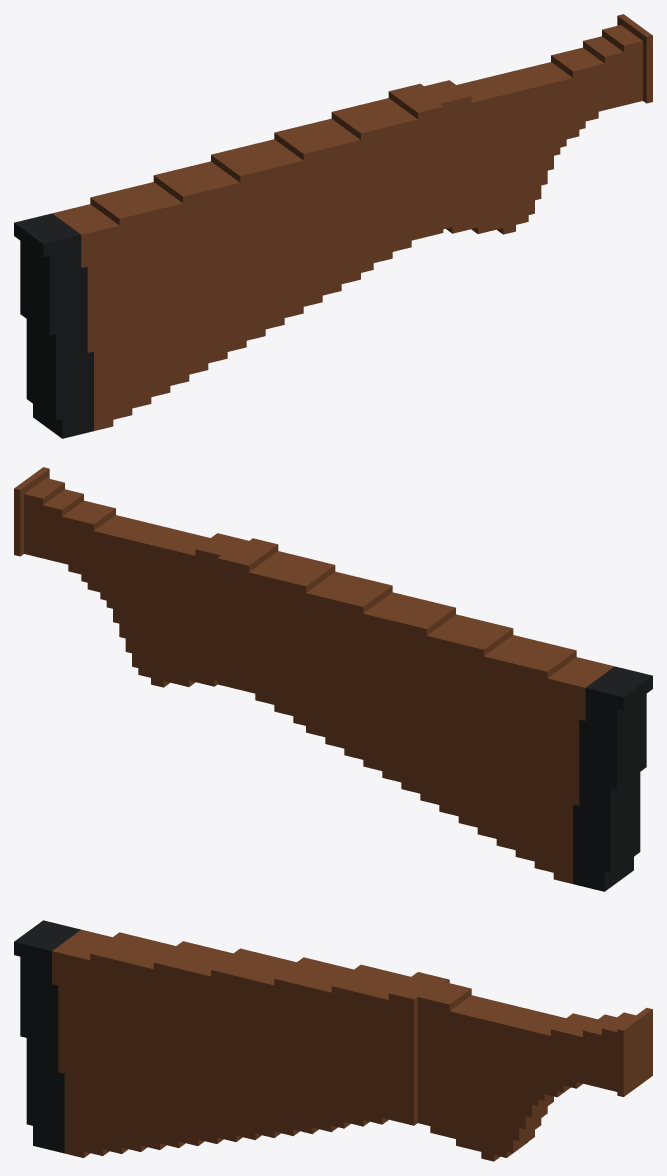
The model's file is stock_tapered_medium.glb.
The picture shows the model from 3 angles, top to bottom: view 1: azimuth 30°, elevation 25°; view 2: azimuth 150°, elevation 25°; view 3: azimuth 330°, elevation 25°; orthographic projection.
Visible parts, largest first — view 1: stock_tapered_medium:stock; view 2: stock_tapered_medium:stock; view 3: stock_tapered_medium:stock.
Boxes of the visible parts, x1,y1,x2,y2 form: stock_tapered_medium:stock: (14,14,652,438); stock_tapered_medium:stock: (14,467,652,891); stock_tapered_medium:stock: (14,920,652,1161).
Size of the model in its own units: 0.384 by 0.156 by 0.032.
